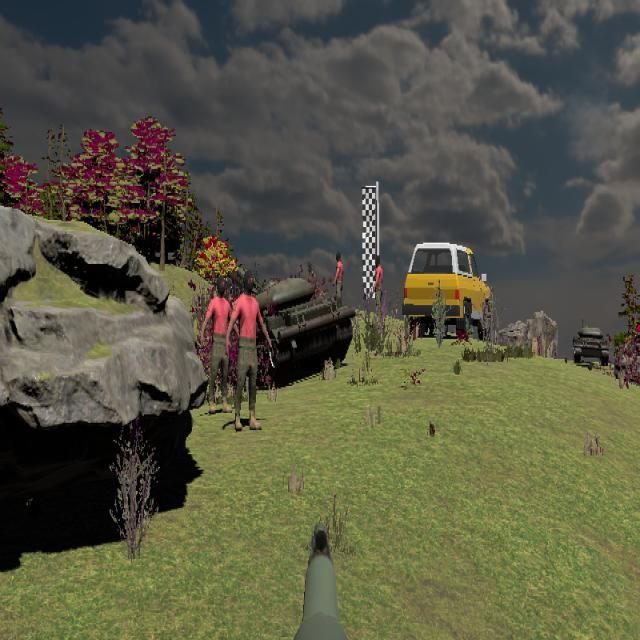Human: (227, 269, 272, 432), (201, 276, 240, 415)
Tank: (222, 276, 354, 383), (573, 322, 610, 369)
car: (403, 242, 493, 337)
